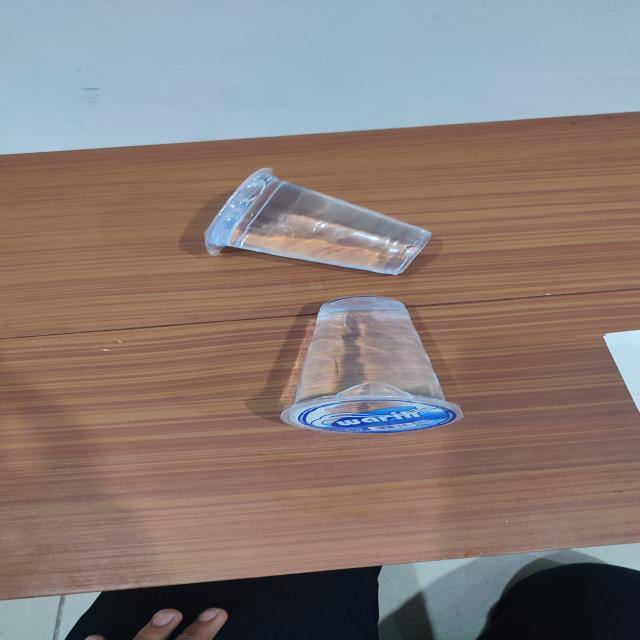air gelas: (257, 294, 495, 440), (185, 164, 452, 278)
